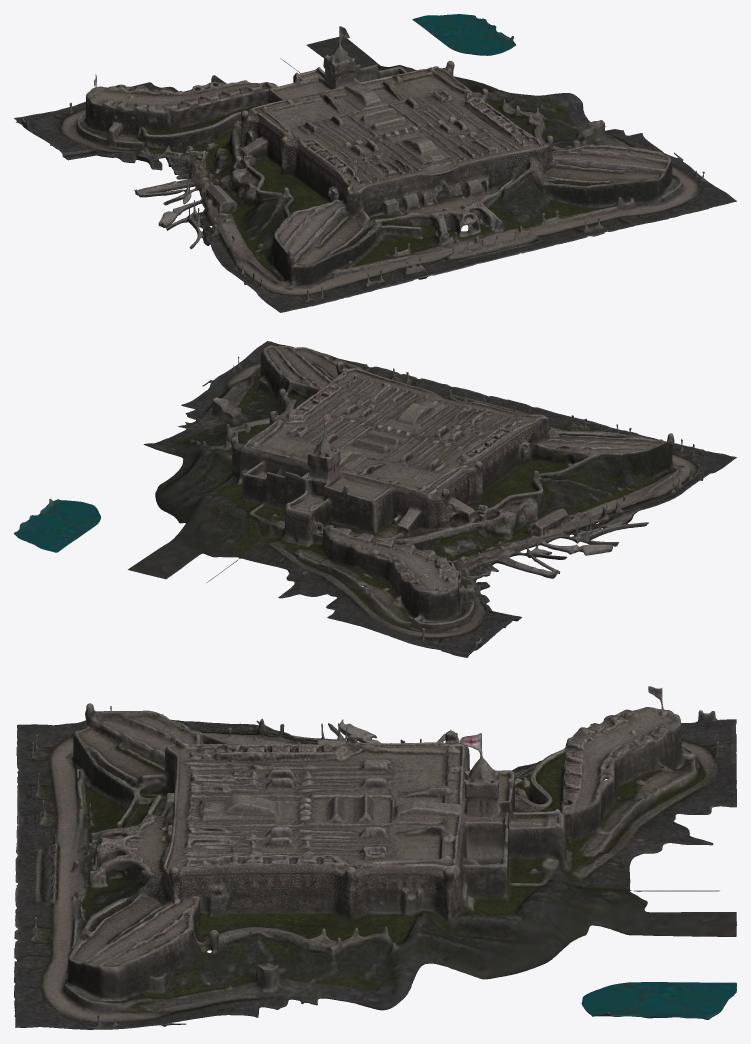
The model's file is fort1.glb.
3 renders of one model, top to bottom at view 1: azimuth 30°, elevation 25°; view 2: azimuth 150°, elevation 25°; view 3: azimuth 270°, elevation 25°, orthographic. The views are drawn at different scales.
Size of the model in its own units: 1.9 by 0.4406 by 1.9.
1 material, 1 textured.
